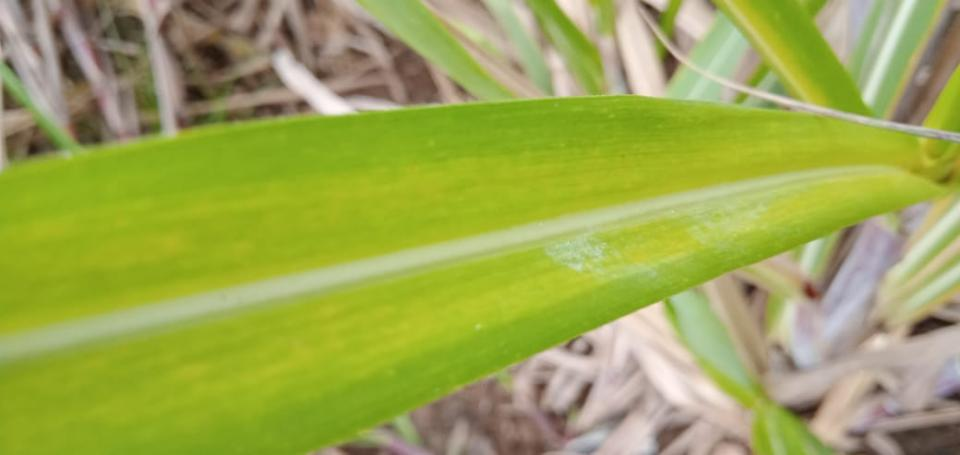Healthy: (0, 95, 959, 454)
